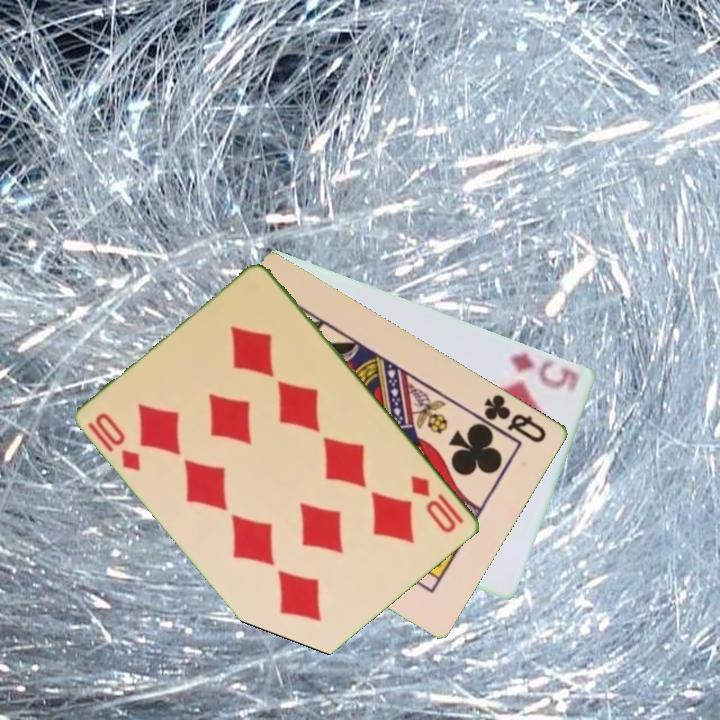10d: (407, 472, 468, 536), (92, 409, 145, 475)
5d: (506, 348, 583, 395)
Qc: (472, 390, 550, 446)
